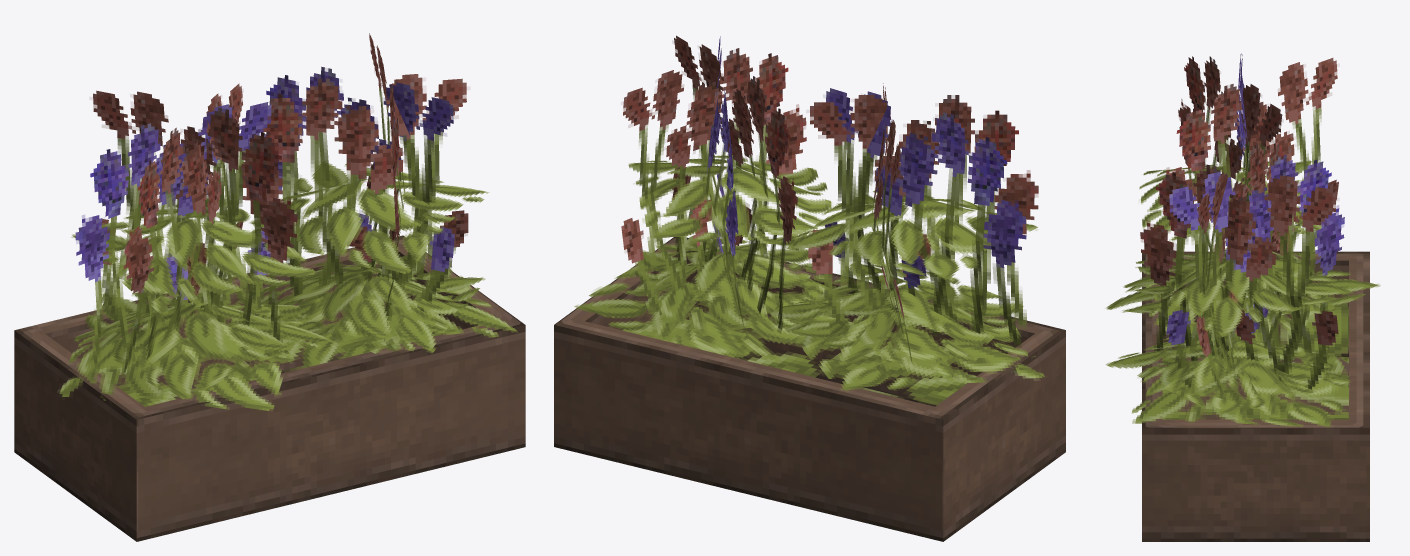
File: flower_box_alt.glb
The picture shows the model from 3 angles, left to right: view 1: azimuth 30°, elevation 25°; view 2: azimuth 150°, elevation 25°; view 3: azimuth 270°, elevation 25°; orthographic projection. The views are drawn at different scales.
Visible parts, largest first — view 1: flower_box_alt; view 2: flower_box_alt; view 3: flower_box_alt.
Boxes of the visible parts, bbox=[...] form: flower_box_alt: bbox=[14, 33, 525, 541]; flower_box_alt: bbox=[554, 35, 1065, 541]; flower_box_alt: bbox=[1105, 53, 1380, 541].
Size of the model in its own units: 1.11 by 0.894 by 0.7099.
Materials: 1 (1 with a texture image).
